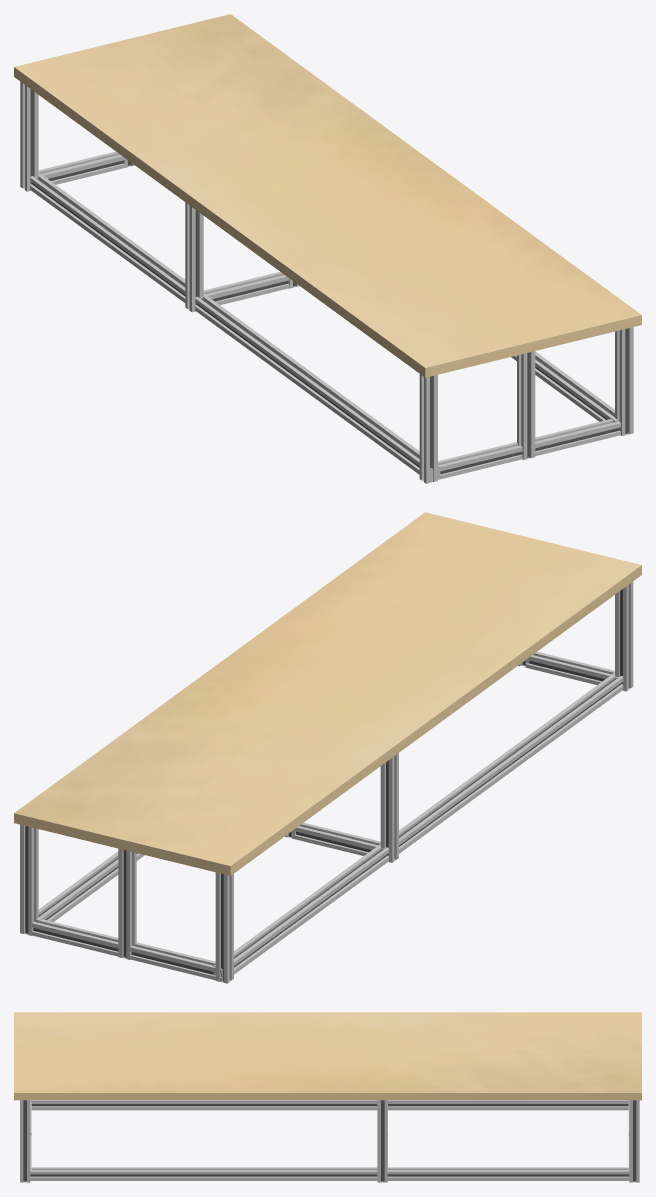
The model's file is longtable.fbx.
3 renders of one model, top to bottom at view 1: azimuth 30°, elevation 25°; view 2: azimuth 150°, elevation 25°; view 3: azimuth 270°, elevation 25°, orthographic. The views are drawn at different scales.
Parts seen in each view (by area): view 1: Table; view 2: Table; view 3: Table.
Boxes of the visible parts, box(x1,y1,x2,y2) form: Table: box(14, 14, 641, 483); Table: box(14, 512, 641, 983); Table: box(14, 1012, 641, 1182).
Bounding box in the file's own units: 186 × 98.15 × 610.
1 material, 1 textured.
